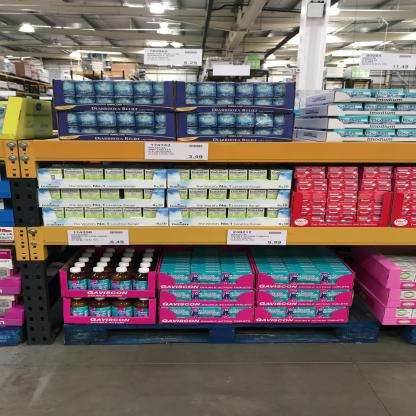Void: (166, 245, 354, 274), (292, 90, 325, 141), (26, 94, 61, 141)
